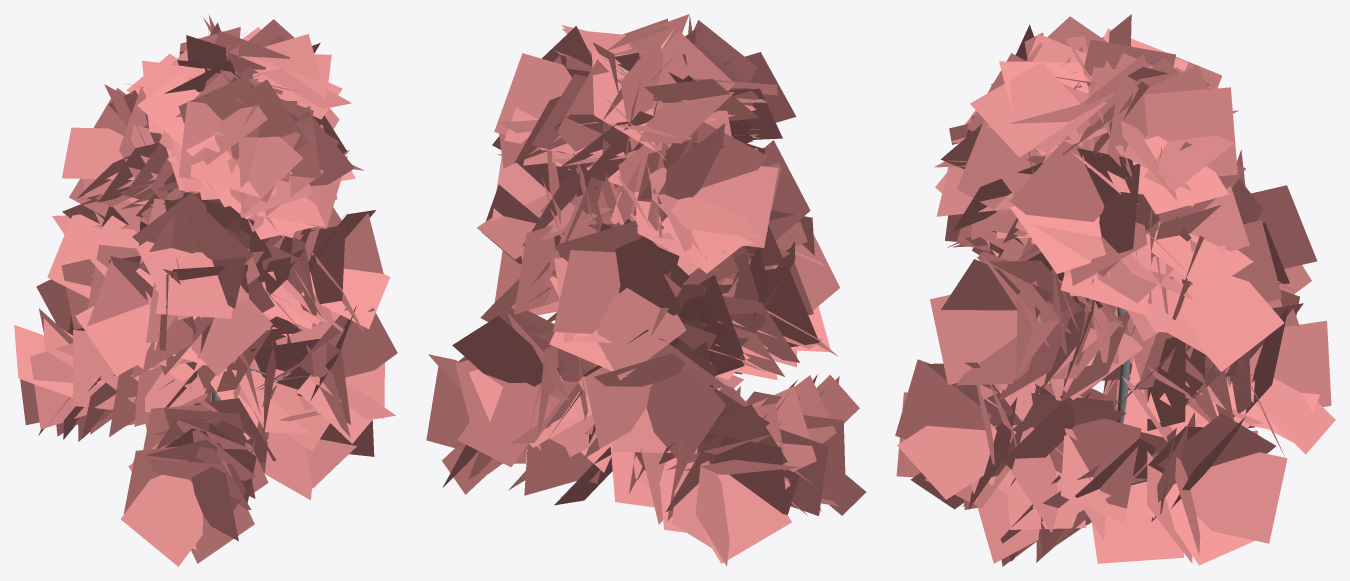
Rendered from SM_tree10.fbx.
The picture shows the model from 3 angles, left to right: view 1: azimuth 30°, elevation 25°; view 2: azimuth 150°, elevation 25°; view 3: azimuth 270°, elevation 25°; orthographic projection. The views are drawn at different scales.
Visible parts, largest first — view 1: SM_tree10; view 2: SM_tree10; view 3: SM_tree10.
Part boxes in pixels (x1,y1,x2,y2): SM_tree10: (14, 14, 397, 566); SM_tree10: (426, 14, 866, 566); SM_tree10: (895, 14, 1335, 566).
Bounding box in the file's own units: 263 × 346 × 264.
